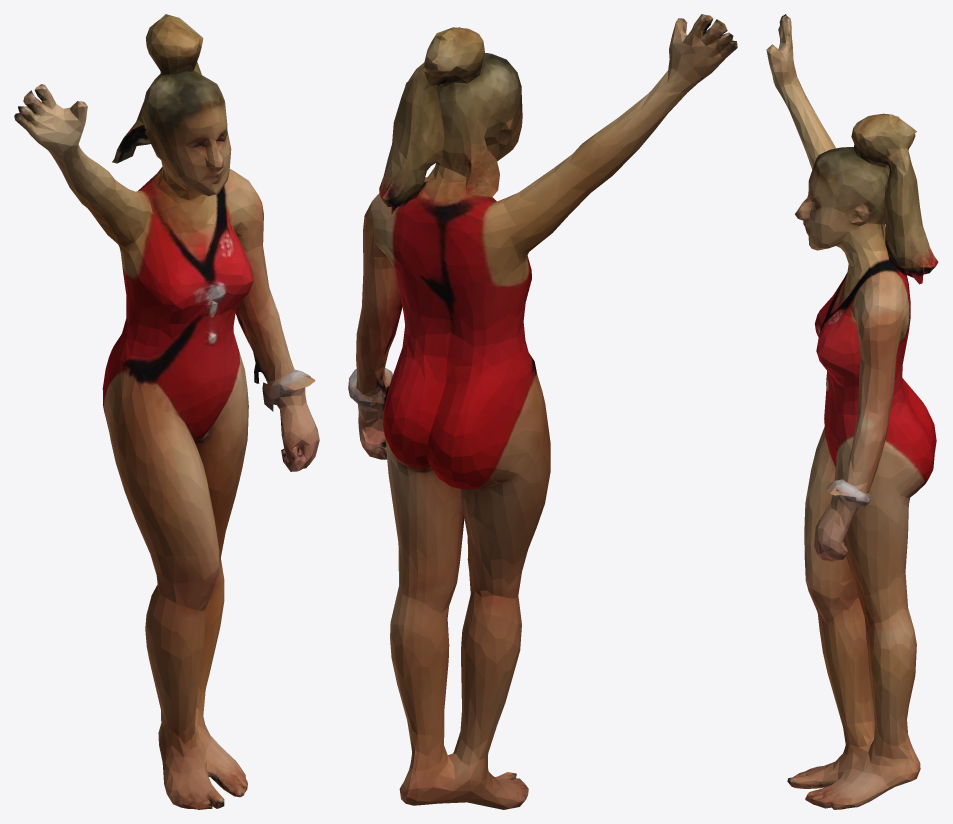
Rendered from beachlady.glb.
The picture shows the model from 3 angles, left to right: view 1: azimuth 30°, elevation 25°; view 2: azimuth 150°, elevation 25°; view 3: azimuth 270°, elevation 25°; orthographic projection. The views are drawn at different scales.
Visible parts, largest first — view 1: geometry_0; view 2: geometry_0; view 3: geometry_0.
Part boxes in pixels (x1,y1,x2,y2): geometry_0: (14,14,319,809); geometry_0: (348,14,737,809); geometry_0: (766,14,938,809).
Size of the model in its own units: 0.4459 by 0.9993 by 0.2251.
Materials: 1 (1 with a texture image).
